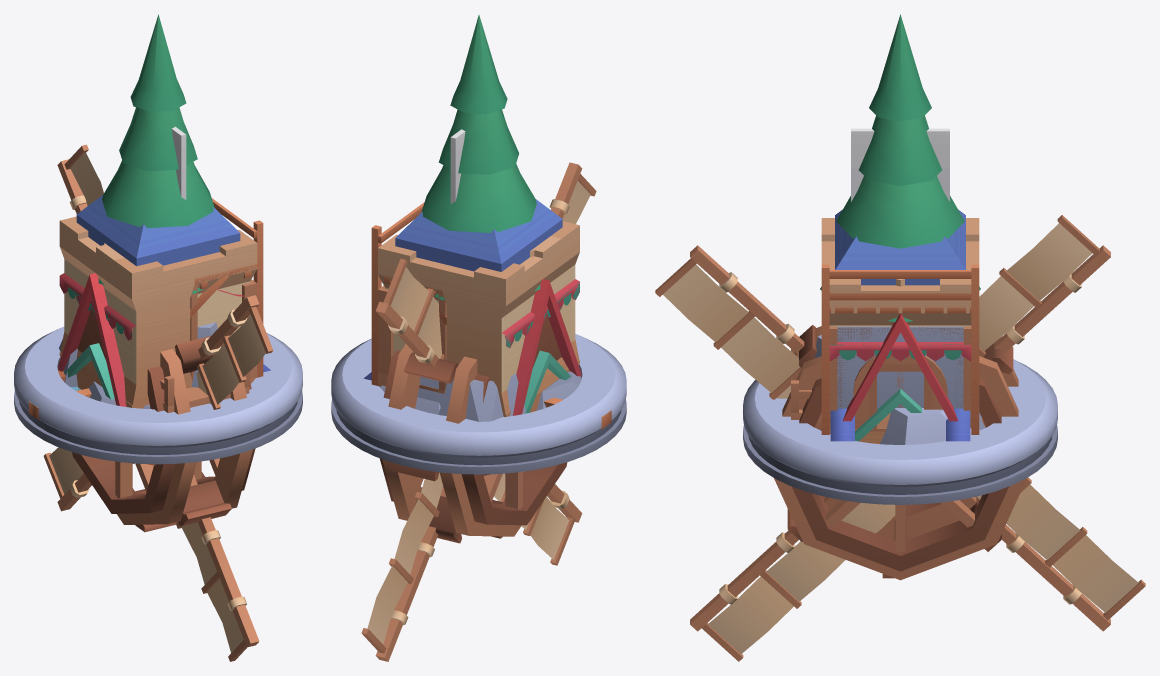
File: town-D0H3i9X0.glb
3 renders of one model, left to right at view 1: azimuth 30°, elevation 25°; view 2: azimuth 150°, elevation 25°; view 3: azimuth 270°, elevation 25°, orthographic. The views are drawn at different scales.
Visible parts, largest first — view 1: fountain-round, windmill, watermill, tree-high, tower-square-roof, wall-narrow-wood, tower-square, roof-high-gable, wall-narrow-wood-fence, stall-red, rock-large, roof-gable (+2 smaller); view 2: fountain-round, windmill, watermill, tree-high, tower-square-roof, wall-narrow-wood, tower-square, roof-high-gable, rock-large, wall-narrow-wood-fence, stall-red, roof-gable (+3 smaller); view 3: windmill, fountain-round, watermill, tree-high, tower-square-roof, wall-narrow-wood-fence, wall, tower-square, rock-large, wall-door, roof-high-gable-end, flag-banner-long (+4 smaller).
Part boxes in pixels (x1,y1,x2,y2): fountain-round: [14, 327, 302, 464]; windmill: [43, 144, 273, 661]; watermill: [72, 336, 255, 532]; tree-high: [98, 14, 214, 293]; tower-square-roof: [60, 195, 256, 388]; wall-narrow-wood: [59, 221, 257, 408]; tower-square: [59, 221, 257, 408]; roof-high-gable: [58, 273, 126, 406]; wall-narrow-wood-fence: [64, 198, 263, 386]; stall-red: [59, 273, 243, 381]; rock-large: [59, 322, 217, 408]; roof-gable: [64, 343, 114, 399]; fountain-round: [331, 334, 626, 474]; windmill: [361, 162, 596, 661]; watermill: [379, 344, 567, 543]; tree-high: [421, 15, 540, 299]; tower-square-roof: [378, 199, 579, 397]; wall-narrow-wood: [380, 236, 579, 417]; tower-square: [378, 225, 579, 416]; roof-high-gable: [513, 279, 581, 415]; rock-large: [380, 371, 581, 421]; wall-narrow-wood-fence: [371, 202, 575, 395]; stall-red: [419, 279, 579, 393]; roof-gable: [524, 350, 570, 413]; windmill: [655, 215, 1145, 661]; fountain-round: [743, 359, 1057, 504]; watermill: [774, 325, 1026, 580]; tree-high: [820, 14, 980, 321]; tower-square-roof: [821, 209, 979, 326]; wall-narrow-wood-fence: [821, 264, 979, 443]; wall: [829, 327, 971, 428]; tower-square: [821, 234, 979, 442]; rock-large: [814, 335, 985, 444]; wall-door: [837, 327, 963, 428]; roof-high-gable-end: [843, 316, 957, 421]; flag-banner-long: [851, 128, 949, 201].
Size of the model in its own units: 2 by 4.53 by 3.11.
3 materials, 2 textured.
